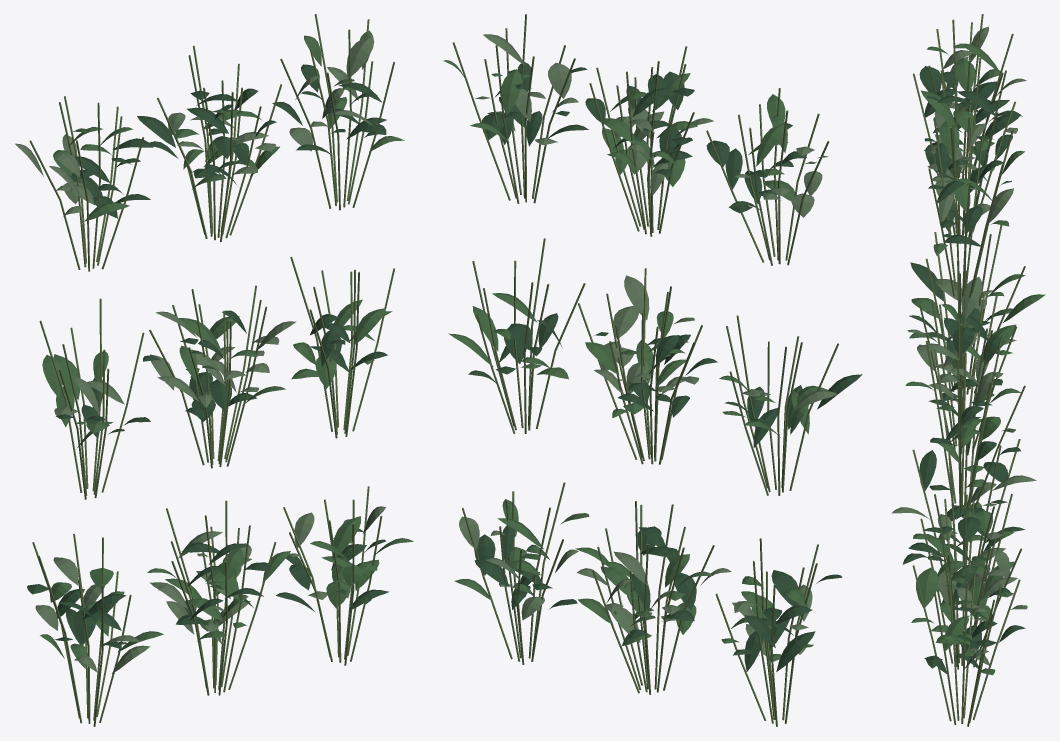
Rendered from gold.glb.
The picture shows the model from 3 angles, left to right: view 1: azimuth 30°, elevation 25°; view 2: azimuth 150°, elevation 25°; view 3: azimuth 270°, elevation 25°; orthographic projection. The views are drawn at different scales.
Parts seen in each view (by area): view 1: gold; view 2: gold; view 3: gold.
Part boxes in pixels (x1,y1,x2,y2): gold: [15, 14, 413, 726]; gold: [443, 14, 862, 726]; gold: [891, 14, 1045, 726].
Bounding box in the file's own units: 0.8545 × 1.41 × 0.3295.
